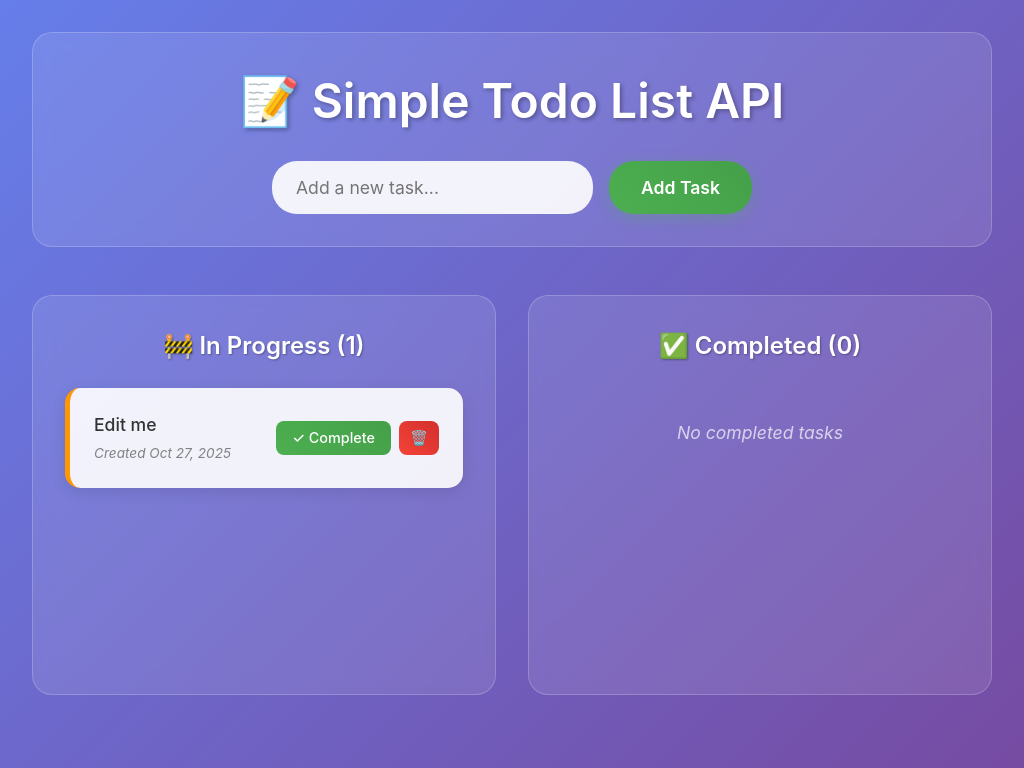
Test: edits a todo title (click title -> edit -> Enter)
Click the button "Edit me" at {"x": 125, "y": 424}, box top-left (94, 414), bottom-right (157, 435)
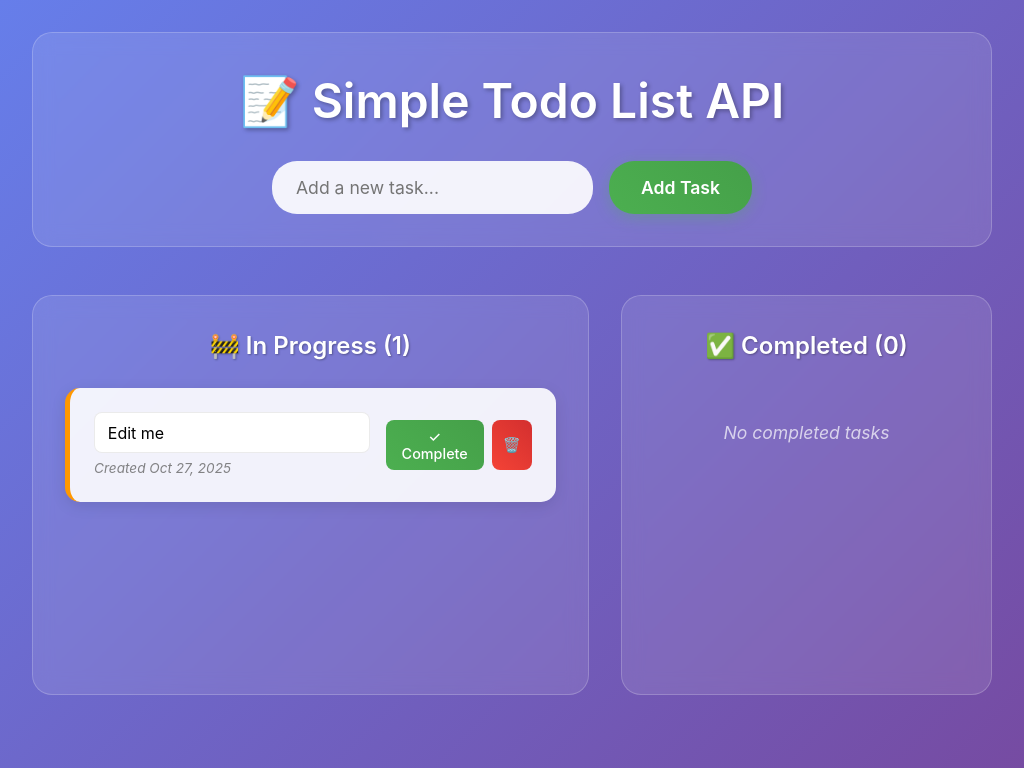
Replace the text in the field showing "Edit me" with "Edited" at {"x": 232, "y": 433}, box top-left (94, 412), bottom-right (370, 453)
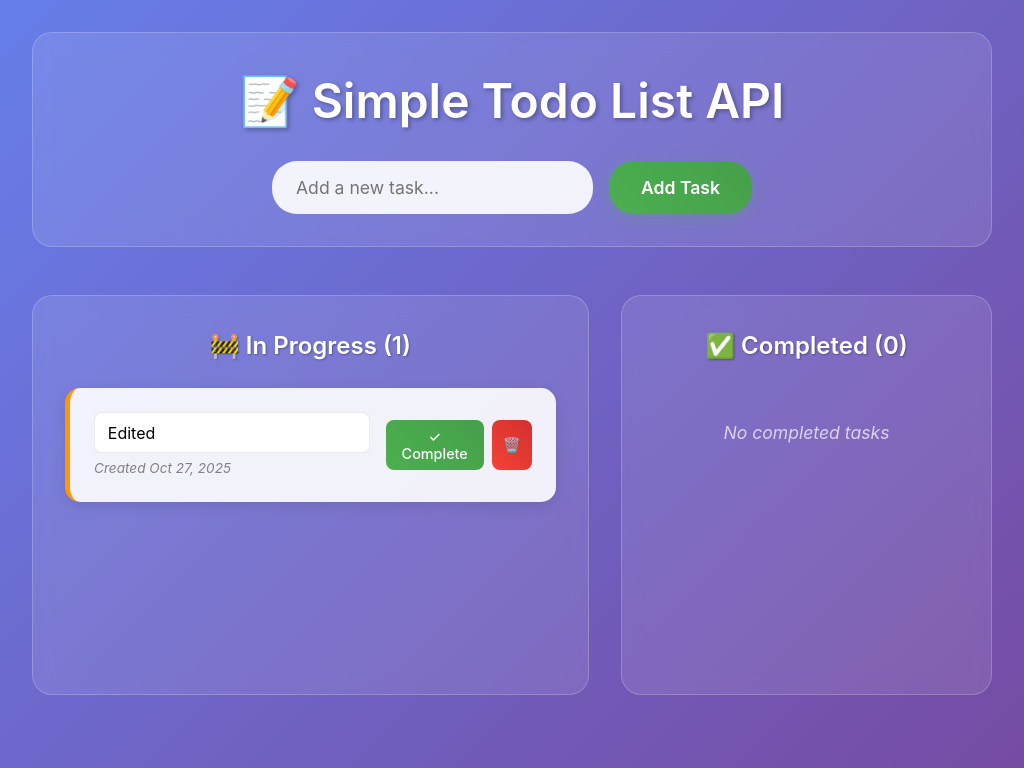
Press Enter in the field showing "Edit me", box top-left (94, 412), bottom-right (370, 453)
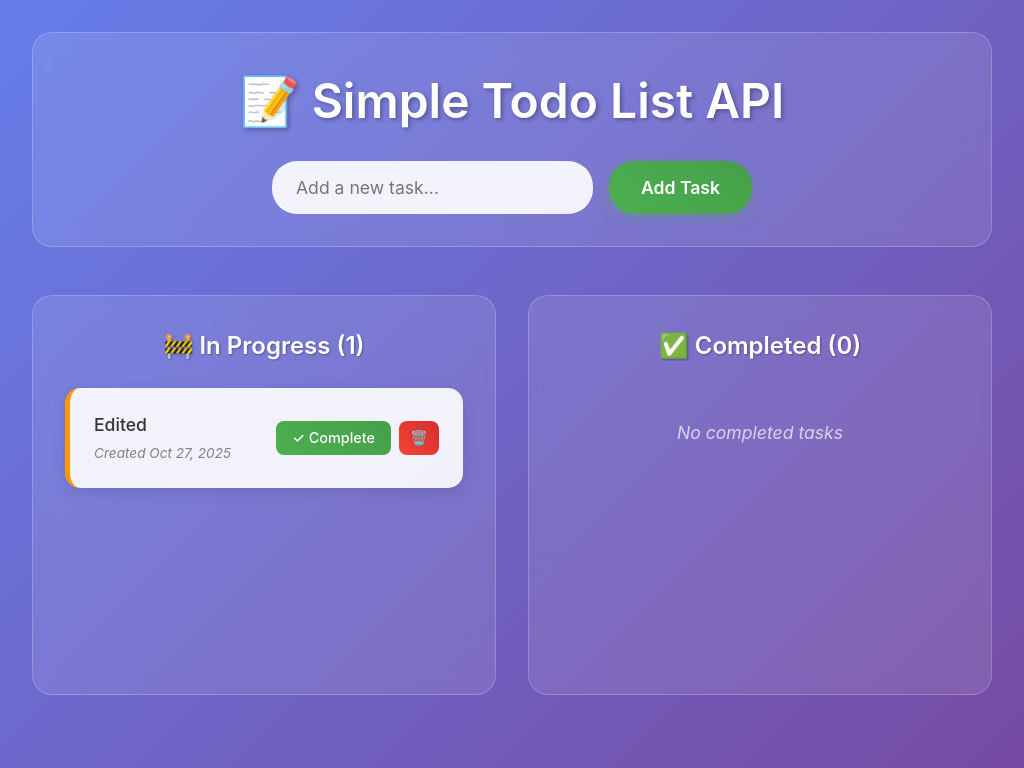
Result: the button "Edited" is shown at top-left (94, 414), bottom-right (147, 435)
